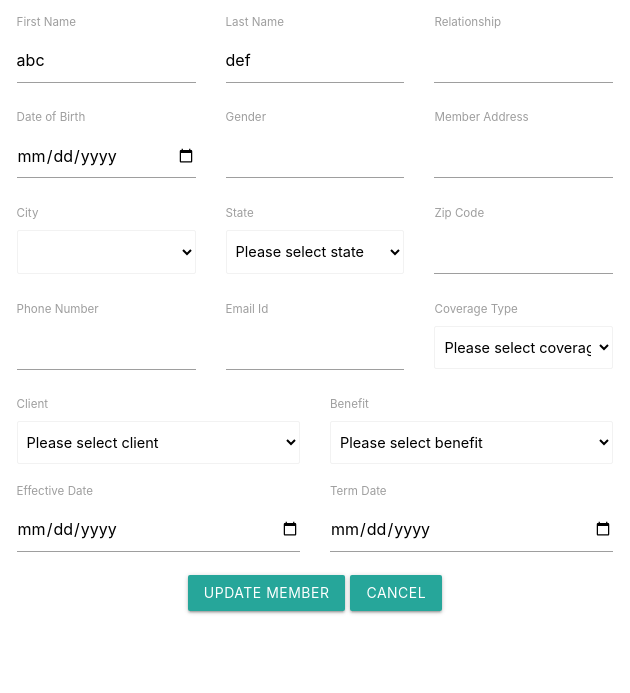
Test: AddUpdateMember › should throw error when firstname contains numbers
Replace the text in the field with id "firstName" with "abc123" at (106, 60), box [17,38,196,83]
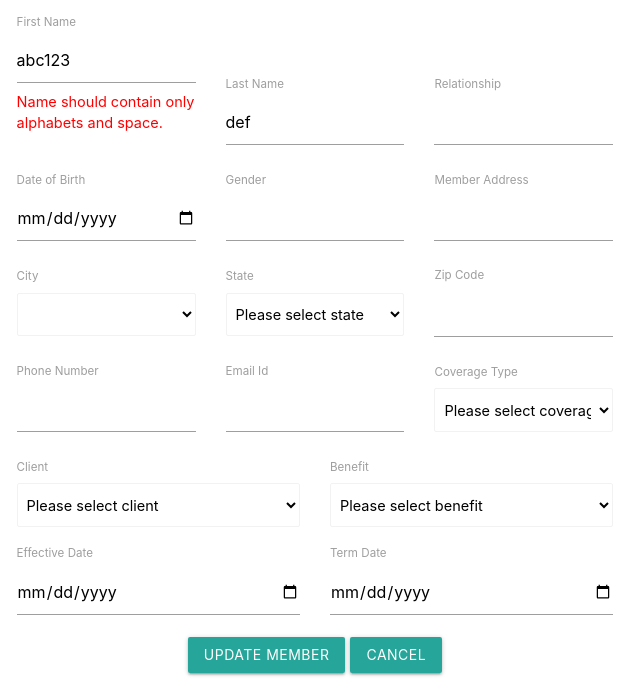
Result: the text "Name should contain only alphabets and space." is shown at [17,93,194,131]
